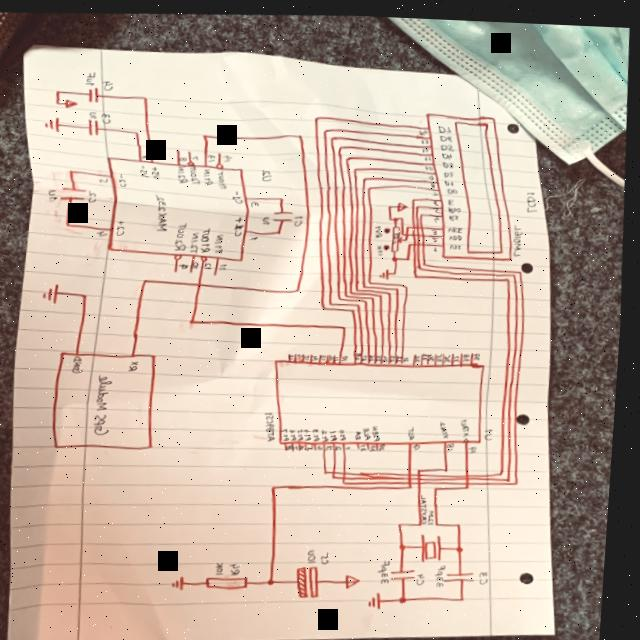capacitor: (300, 561, 329, 595), (62, 184, 89, 200), (452, 565, 484, 578), (397, 562, 423, 576), (274, 207, 297, 219), (88, 117, 102, 134), (88, 85, 102, 101)
crossover: (408, 228, 413, 232), (425, 237, 429, 242), (420, 237, 424, 242), (419, 219, 423, 224), (414, 227, 419, 231), (423, 220, 427, 224), (424, 228, 428, 232), (415, 237, 419, 241), (420, 228, 424, 232), (415, 220, 419, 224)
ground: (45, 280, 65, 304), (44, 114, 64, 132), (374, 586, 392, 606), (351, 569, 370, 586), (179, 572, 194, 589), (382, 264, 393, 275)
junction: (405, 591, 416, 599), (461, 540, 472, 548), (273, 574, 284, 582), (84, 290, 94, 298), (405, 538, 415, 545), (276, 480, 285, 487), (192, 315, 201, 322), (346, 473, 354, 480), (55, 88, 64, 94), (202, 130, 211, 136), (323, 124, 332, 130), (328, 465, 335, 472), (280, 192, 288, 198), (465, 591, 473, 597), (145, 276, 153, 282), (67, 220, 75, 226), (314, 111, 322, 117), (70, 167, 78, 173), (298, 130, 306, 136), (142, 93, 150, 99), (134, 128, 142, 134), (394, 251, 402, 257), (297, 284, 306, 289), (403, 516, 410, 522), (344, 320, 351, 326), (337, 470, 344, 476), (504, 464, 511, 470), (278, 226, 286, 231), (368, 182, 376, 187), (346, 152, 354, 157), (240, 254, 248, 259), (519, 474, 526, 479), (326, 302, 332, 307), (441, 517, 447, 522), (512, 471, 518, 476), (331, 131, 337, 136), (340, 141, 346, 146), (416, 269, 423, 273), (420, 262, 427, 266), (448, 462, 455, 466), (422, 463, 429, 467), (413, 480, 420, 484), (354, 163, 361, 167), (462, 517, 468, 521), (364, 173, 370, 177), (439, 481, 445, 485), (352, 286, 358, 290), (359, 299, 365, 303), (396, 212, 402, 216), (509, 272, 515, 276), (56, 100, 62, 104), (342, 292, 346, 297), (382, 289, 387, 293), (398, 282, 403, 286), (418, 199, 422, 204), (521, 264, 526, 268), (332, 298, 338, 301), (408, 253, 414, 256), (470, 480, 476, 483), (355, 304, 359, 308), (403, 211, 407, 215), (414, 192, 418, 196), (515, 267, 519, 271), (407, 281, 412, 284), (366, 281, 371, 284), (368, 295, 373, 298), (425, 258, 430, 261), (391, 200, 395, 203), (372, 277, 376, 280), (348, 290, 352, 293), (374, 292, 378, 295), (359, 284, 363, 287), (396, 267, 400, 270), (422, 208, 426, 211), (411, 238, 415, 241), (409, 221, 413, 224), (391, 287, 396, 289), (391, 214, 395, 216), (407, 234, 411, 236), (404, 229, 407, 231)
resistor: (212, 570, 259, 588), (392, 221, 407, 248)
source: (66, 96, 80, 107), (399, 197, 411, 207)
text: (96, 365, 120, 434), (155, 189, 174, 230), (175, 219, 192, 249), (267, 409, 283, 439), (514, 218, 528, 251), (200, 223, 217, 250), (383, 554, 400, 579), (358, 437, 391, 448), (526, 185, 542, 207), (214, 229, 229, 251), (441, 559, 455, 581), (75, 353, 90, 372), (426, 489, 435, 519), (217, 168, 231, 187), (444, 415, 456, 434), (235, 218, 249, 234), (204, 165, 217, 182), (465, 414, 476, 432), (85, 69, 98, 84), (313, 544, 326, 559), (177, 166, 190, 181), (117, 218, 129, 234), (376, 420, 387, 436), (486, 565, 498, 579), (234, 189, 247, 201), (263, 165, 275, 178), (49, 188, 61, 201), (102, 78, 116, 89), (222, 558, 233, 572), (153, 163, 164, 177), (236, 560, 248, 572), (131, 358, 144, 369), (490, 422, 501, 435), (90, 188, 101, 201), (181, 259, 195, 269), (368, 422, 378, 436), (142, 162, 152, 176), (296, 211, 307, 223), (423, 568, 434, 580), (413, 421, 422, 435), (439, 120, 453, 129), (121, 171, 130, 185), (327, 546, 336, 560), (103, 110, 113, 122), (449, 201, 464, 209), (433, 504, 441, 519), (449, 221, 466, 228), (344, 424, 353, 437), (441, 129, 455, 137), (287, 425, 296, 437), (294, 425, 303, 437), (377, 221, 386, 233), (327, 425, 335, 438), (318, 424, 326, 437), (443, 139, 457, 146), (335, 425, 343, 437), (309, 425, 317, 437), (303, 424, 310, 437), (452, 229, 465, 236), (474, 439, 484, 448), (453, 238, 465, 245), (444, 156, 456, 163), (99, 228, 111, 235), (223, 152, 235, 159), (418, 437, 427, 446), (451, 437, 461, 445), (252, 198, 263, 205), (101, 175, 112, 182), (448, 349, 456, 358), (449, 183, 461, 189), (360, 426, 367, 436), (380, 240, 387, 250), (446, 174, 456, 181), (421, 133, 431, 140), (420, 124, 430, 131), (443, 148, 454, 154), (446, 166, 457, 172), (467, 348, 475, 356), (457, 350, 465, 358), (312, 439, 320, 447), (91, 109, 99, 117), (265, 213, 273, 221), (478, 347, 485, 356), (252, 231, 262, 237), (435, 202, 445, 208), (452, 210, 462, 216), (441, 348, 447, 357), (449, 194, 458, 200), (426, 160, 435, 166), (143, 151, 151, 157), (154, 152, 162, 158), (433, 348, 439, 356), (419, 349, 425, 357), (400, 350, 406, 358), (360, 348, 366, 356), (316, 351, 324, 357), (300, 350, 308, 356), (331, 441, 339, 447), (424, 143, 433, 148), (408, 351, 414, 358), (394, 350, 400, 357), (387, 351, 393, 358), (346, 351, 353, 357), (338, 351, 345, 357), (332, 350, 338, 357), (325, 350, 332, 356), (341, 440, 348, 446), (292, 440, 299, 446), (434, 224, 441, 230), (436, 212, 443, 218), (426, 151, 433, 157), (434, 185, 441, 191), (427, 348, 432, 356), (322, 441, 330, 446), (434, 232, 442, 237), (374, 350, 380, 356), (366, 350, 372, 356), (309, 350, 315, 356), (305, 440, 311, 446), (431, 169, 437, 175), (432, 177, 438, 183), (436, 195, 442, 201), (380, 350, 385, 357), (436, 241, 441, 247), (351, 441, 358, 445), (294, 350, 299, 355), (298, 442, 304, 446)
